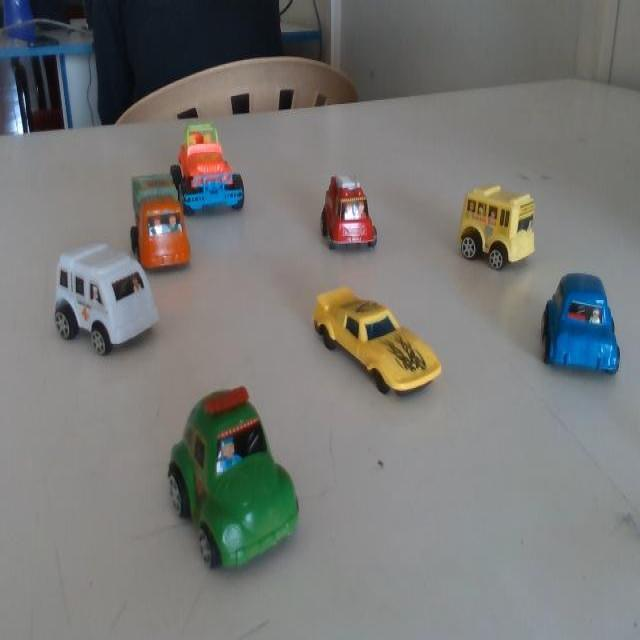car: (159, 390, 302, 562), (309, 281, 442, 403), (50, 232, 160, 368), (542, 272, 626, 382), (450, 182, 535, 280), (176, 116, 256, 216), (126, 164, 191, 279), (310, 165, 378, 263)
